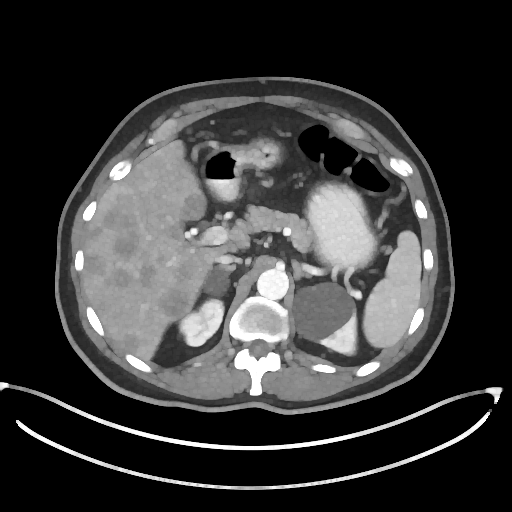Lesion: (287, 283, 356, 341)
